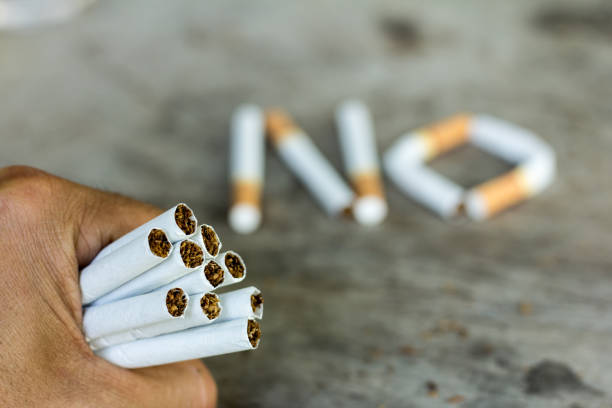cigarette: (462, 111, 560, 224), (384, 110, 477, 222), (266, 106, 357, 219), (93, 317, 261, 370), (88, 291, 223, 351), (78, 224, 175, 307), (92, 237, 206, 305), (81, 203, 198, 266), (333, 99, 389, 228), (81, 286, 190, 342), (228, 103, 267, 235), (149, 260, 226, 296), (213, 286, 264, 325), (189, 224, 222, 261), (214, 250, 247, 287)
